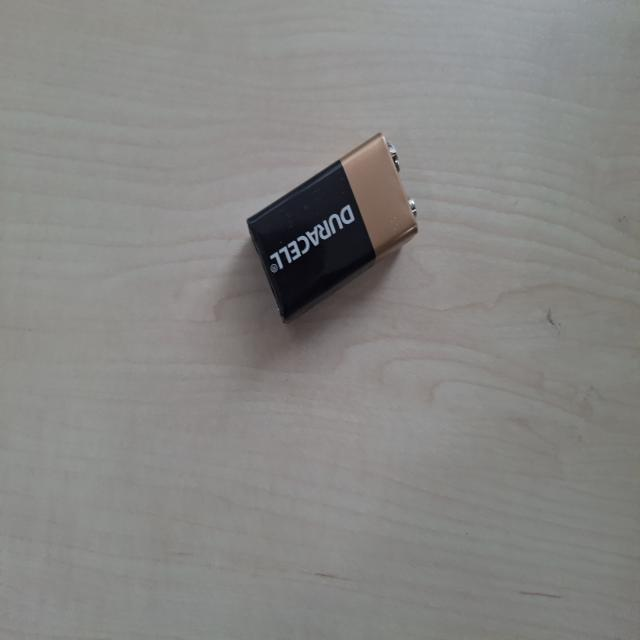9V: (99, 296, 245, 523)
